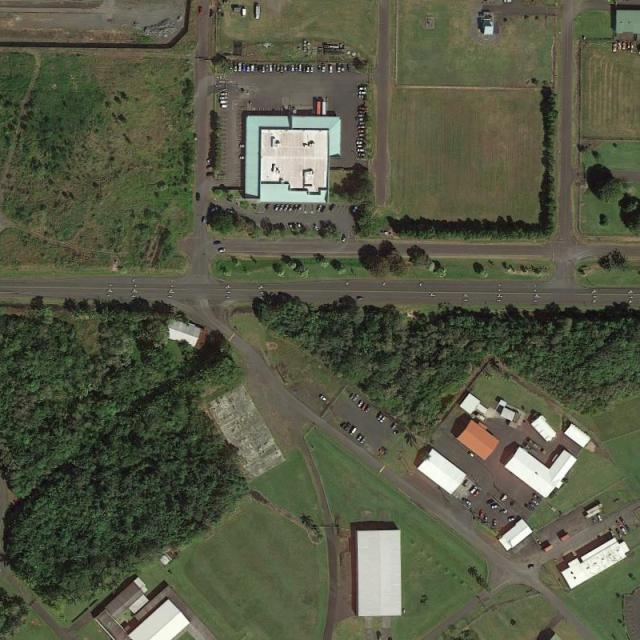vehicle: (255, 4, 260, 19), (463, 498, 472, 506), (534, 494, 542, 502), (350, 428, 358, 436), (470, 486, 478, 494), (241, 8, 247, 18), (530, 502, 537, 510), (526, 506, 534, 513), (531, 498, 538, 506), (208, 156, 215, 164), (352, 395, 359, 403), (350, 206, 357, 214), (329, 204, 336, 212), (274, 204, 281, 212), (378, 412, 384, 421), (322, 396, 329, 403), (349, 393, 356, 400), (344, 424, 351, 431), (463, 481, 470, 488), (278, 205, 285, 212), (358, 400, 364, 408), (361, 403, 367, 411), (365, 406, 371, 414), (392, 422, 398, 430), (357, 434, 363, 442), (474, 489, 480, 497), (320, 205, 326, 213), (298, 204, 304, 212), (292, 204, 298, 212), (283, 204, 289, 212), (210, 206, 218, 212), (239, 144, 248, 149), (624, 525, 630, 532), (381, 416, 387, 423), (360, 438, 366, 445), (288, 205, 294, 212), (487, 501, 495, 506), (597, 514, 602, 522), (218, 248, 226, 253), (342, 234, 347, 242), (198, 6, 203, 14), (620, 518, 626, 524), (621, 527, 626, 534), (617, 529, 622, 536), (298, 223, 303, 230), (356, 296, 363, 301), (491, 505, 499, 509), (213, 242, 221, 246), (250, 64, 254, 72), (262, 64, 266, 72), (356, 142, 364, 146), (246, 64, 250, 72), (242, 64, 246, 72), (302, 64, 306, 72), (210, 10, 214, 18), (617, 521, 622, 527), (609, 529, 614, 535), (330, 64, 333, 74), (500, 510, 507, 514), (258, 65, 262, 72), (359, 86, 366, 90), (359, 106, 366, 110), (358, 118, 365, 122), (357, 149, 364, 153), (318, 205, 322, 212), (322, 65, 326, 72), (318, 65, 322, 72), (310, 66, 314, 73), (306, 65, 310, 72), (295, 64, 299, 71), (358, 110, 365, 114), (480, 511, 483, 520), (194, 133, 197, 142), (280, 63, 283, 72), (357, 126, 366, 129), (234, 63, 237, 72), (238, 63, 241, 72), (508, 518, 514, 522), (485, 514, 488, 522), (360, 94, 366, 98), (342, 64, 345, 72), (338, 65, 341, 73), (299, 63, 302, 71), (219, 92, 226, 95), (207, 173, 214, 176), (207, 166, 214, 169), (220, 100, 227, 103), (266, 65, 269, 72), (270, 65, 273, 72), (273, 65, 276, 72), (276, 64, 279, 71), (284, 64, 287, 71), (359, 91, 366, 94), (358, 114, 365, 117), (358, 122, 365, 125), (357, 134, 364, 137), (358, 153, 365, 156), (240, 157, 247, 160), (254, 64, 257, 71), (291, 64, 294, 71), (357, 130, 365, 132), (197, 193, 199, 200), (357, 138, 364, 140), (356, 146, 363, 148), (349, 63, 351, 70), (220, 98, 226, 100), (221, 105, 227, 107), (494, 521, 496, 526), (504, 1, 511, 2)
